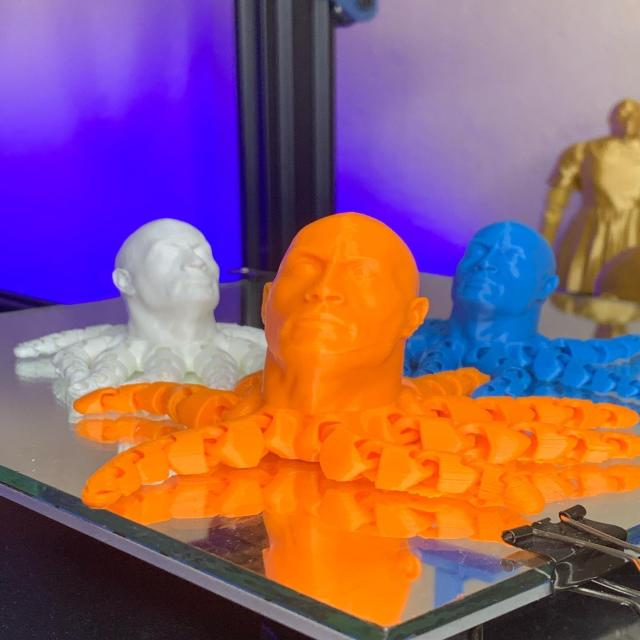Without deffect: (37, 190, 640, 614)
